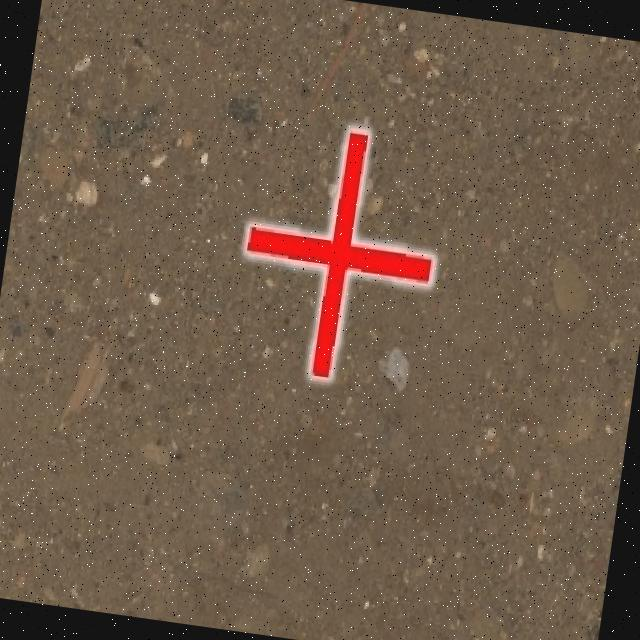x_marker: (230, 117, 449, 388)
